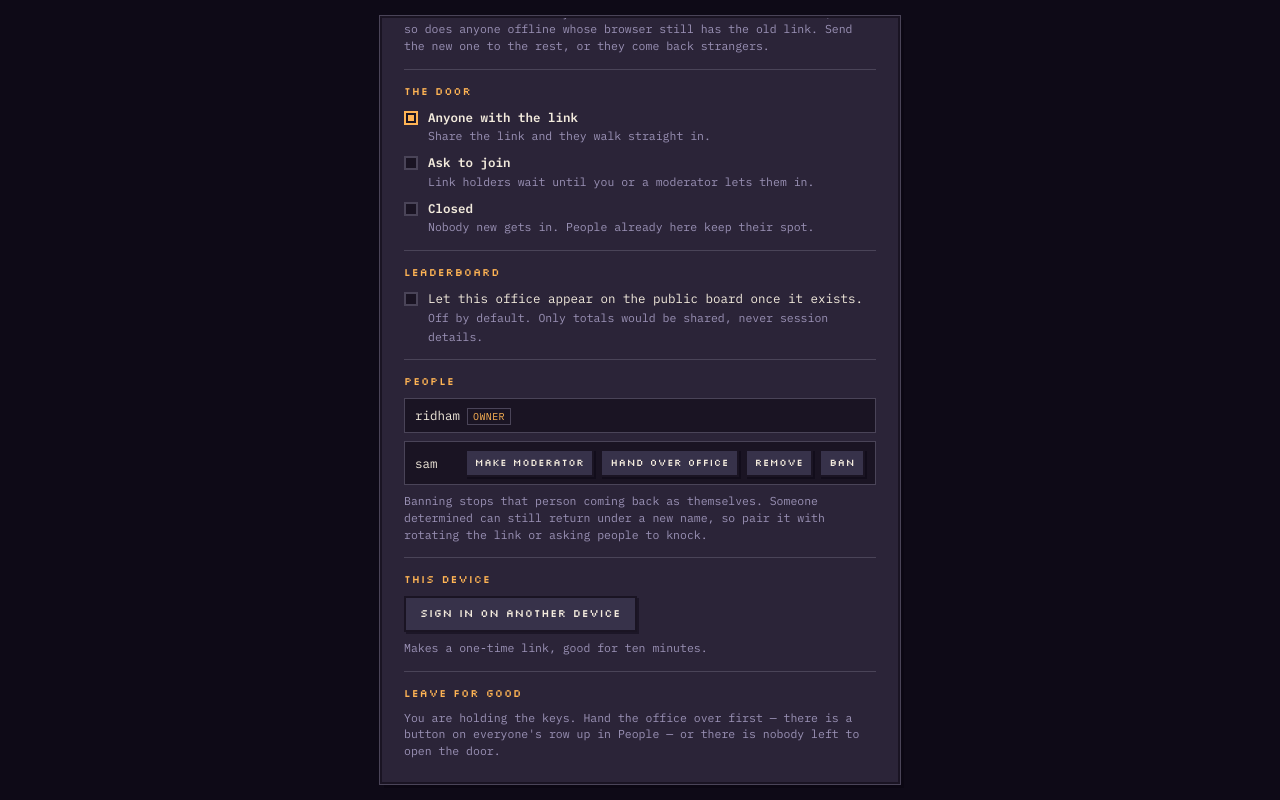
Scenario: SettingsPanel › when the office says no › clears the last answer before asking again, so it cannot be misread
The width and height of the screenshot is (1280, 800).
(page scrolled)
Click the button with aria-label "Make moderator: sam": x=530, y=463 [465,449,594,477]
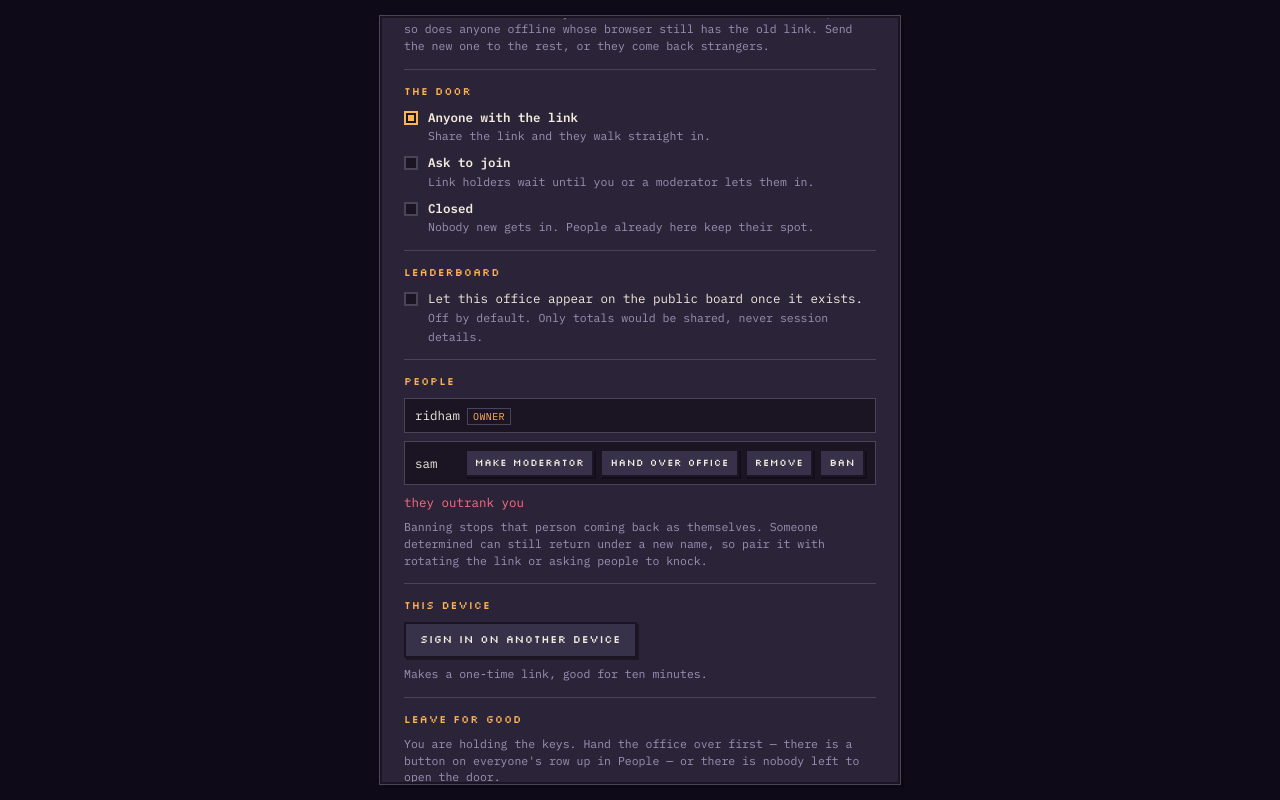
Check: the message "they outrank you" is shown, box [404,494,524,510]
Click the button "Sign in on another device": x=520, y=640 [404,622,637,658]
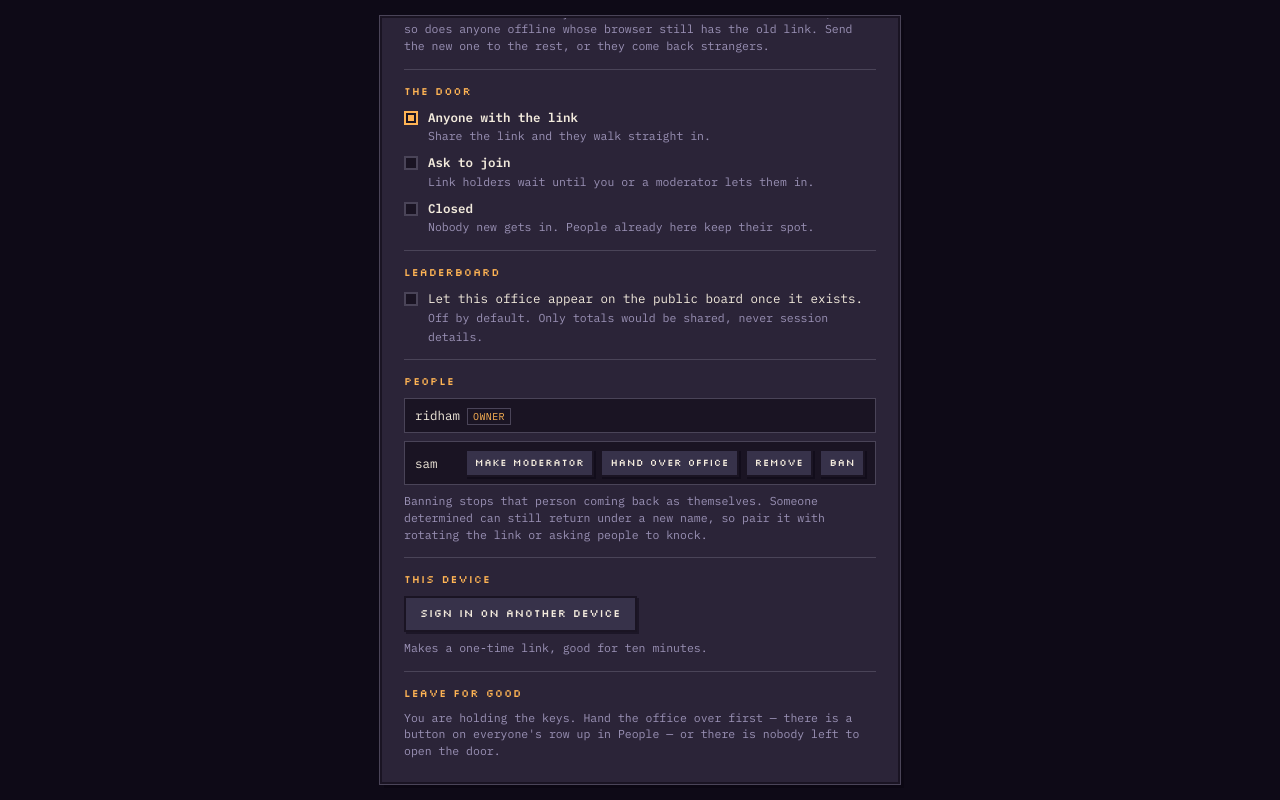
Check: the message "they outrank you" is gone
